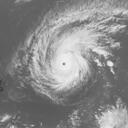cyclone: (28, 37, 90, 96)
